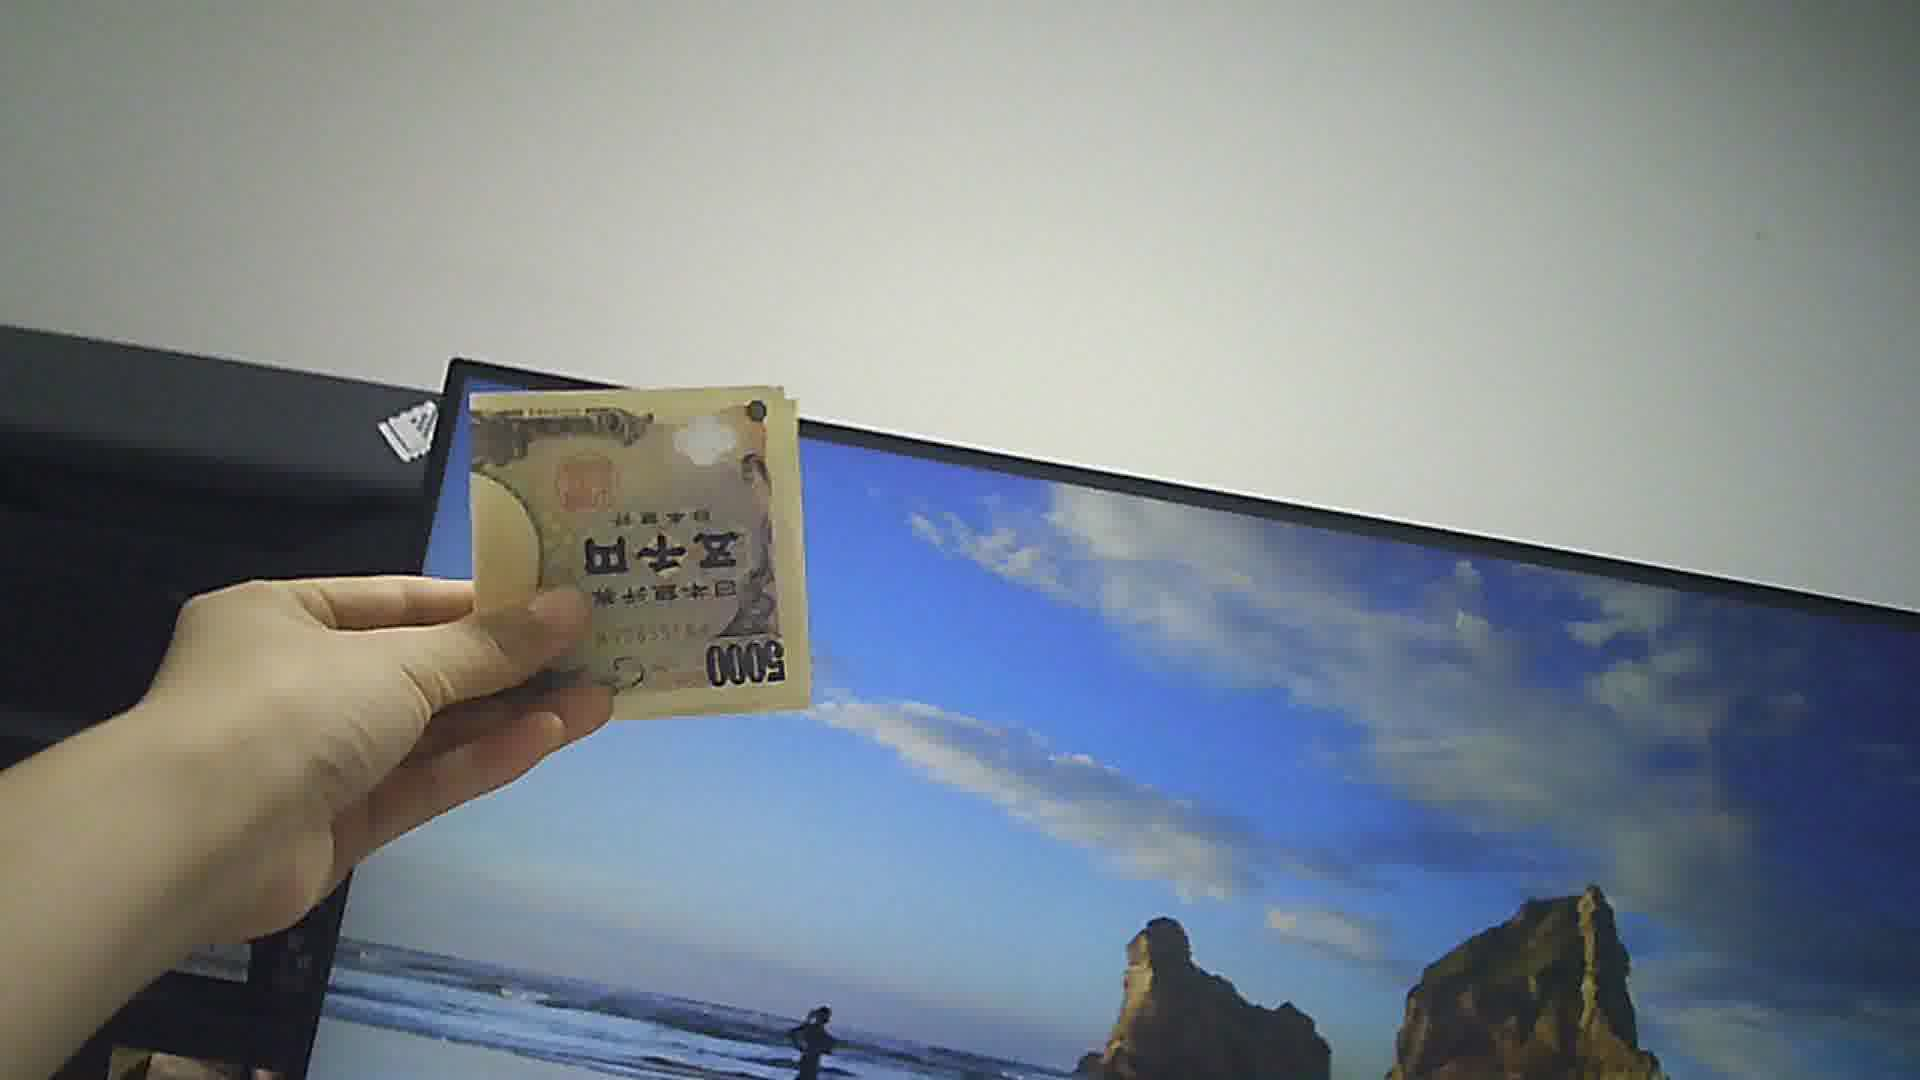5,000 Yen: (465, 377, 811, 736)
